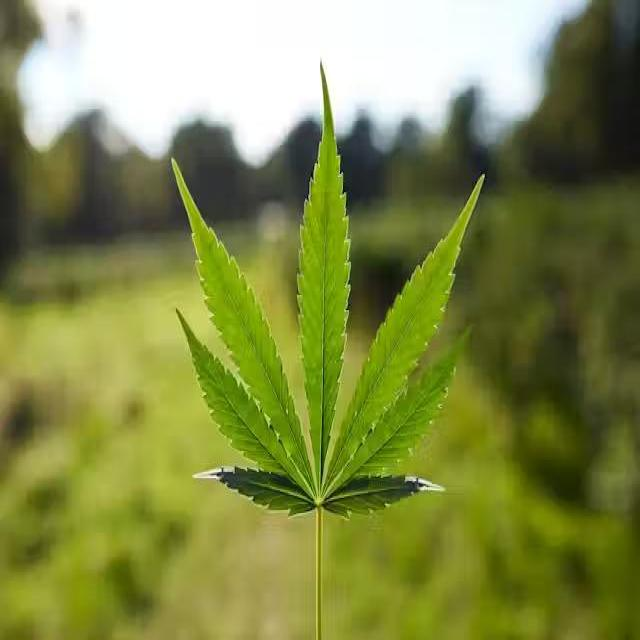cannabis: (170, 53, 486, 638)
